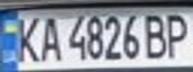2: (103, 11, 124, 61)
4: (63, 11, 87, 61)
6: (121, 10, 145, 61)
8: (84, 11, 106, 61)
A: (33, 12, 63, 63)
B: (139, 11, 172, 60)
K: (12, 12, 45, 64)
P: (160, 10, 193, 58)
